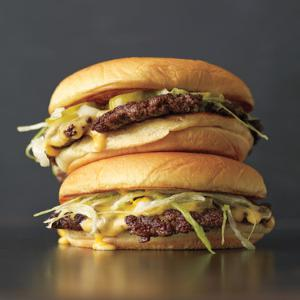cheeseburger_475cal: (35, 52, 281, 260)
